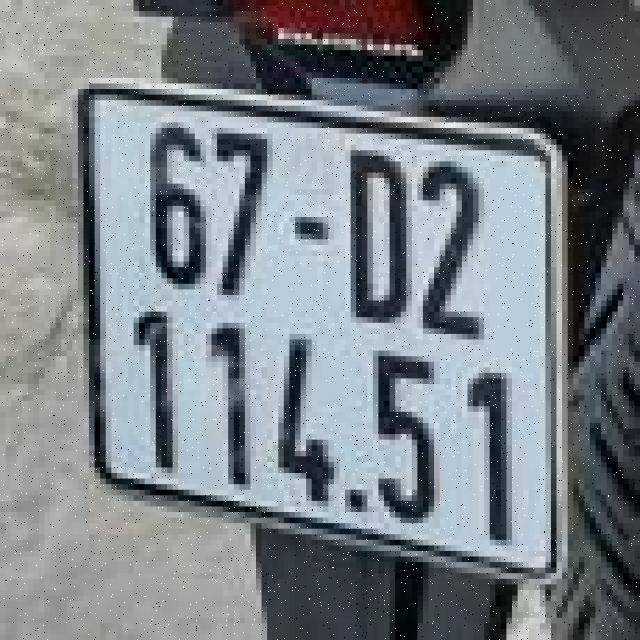1: (120, 287, 187, 487), (459, 359, 526, 548), (200, 312, 262, 506)
2: (420, 142, 509, 342)
4: (267, 314, 345, 526)
5: (353, 340, 448, 528)
6: (148, 123, 215, 290)
7: (211, 120, 284, 303)
D: (328, 136, 418, 337)
